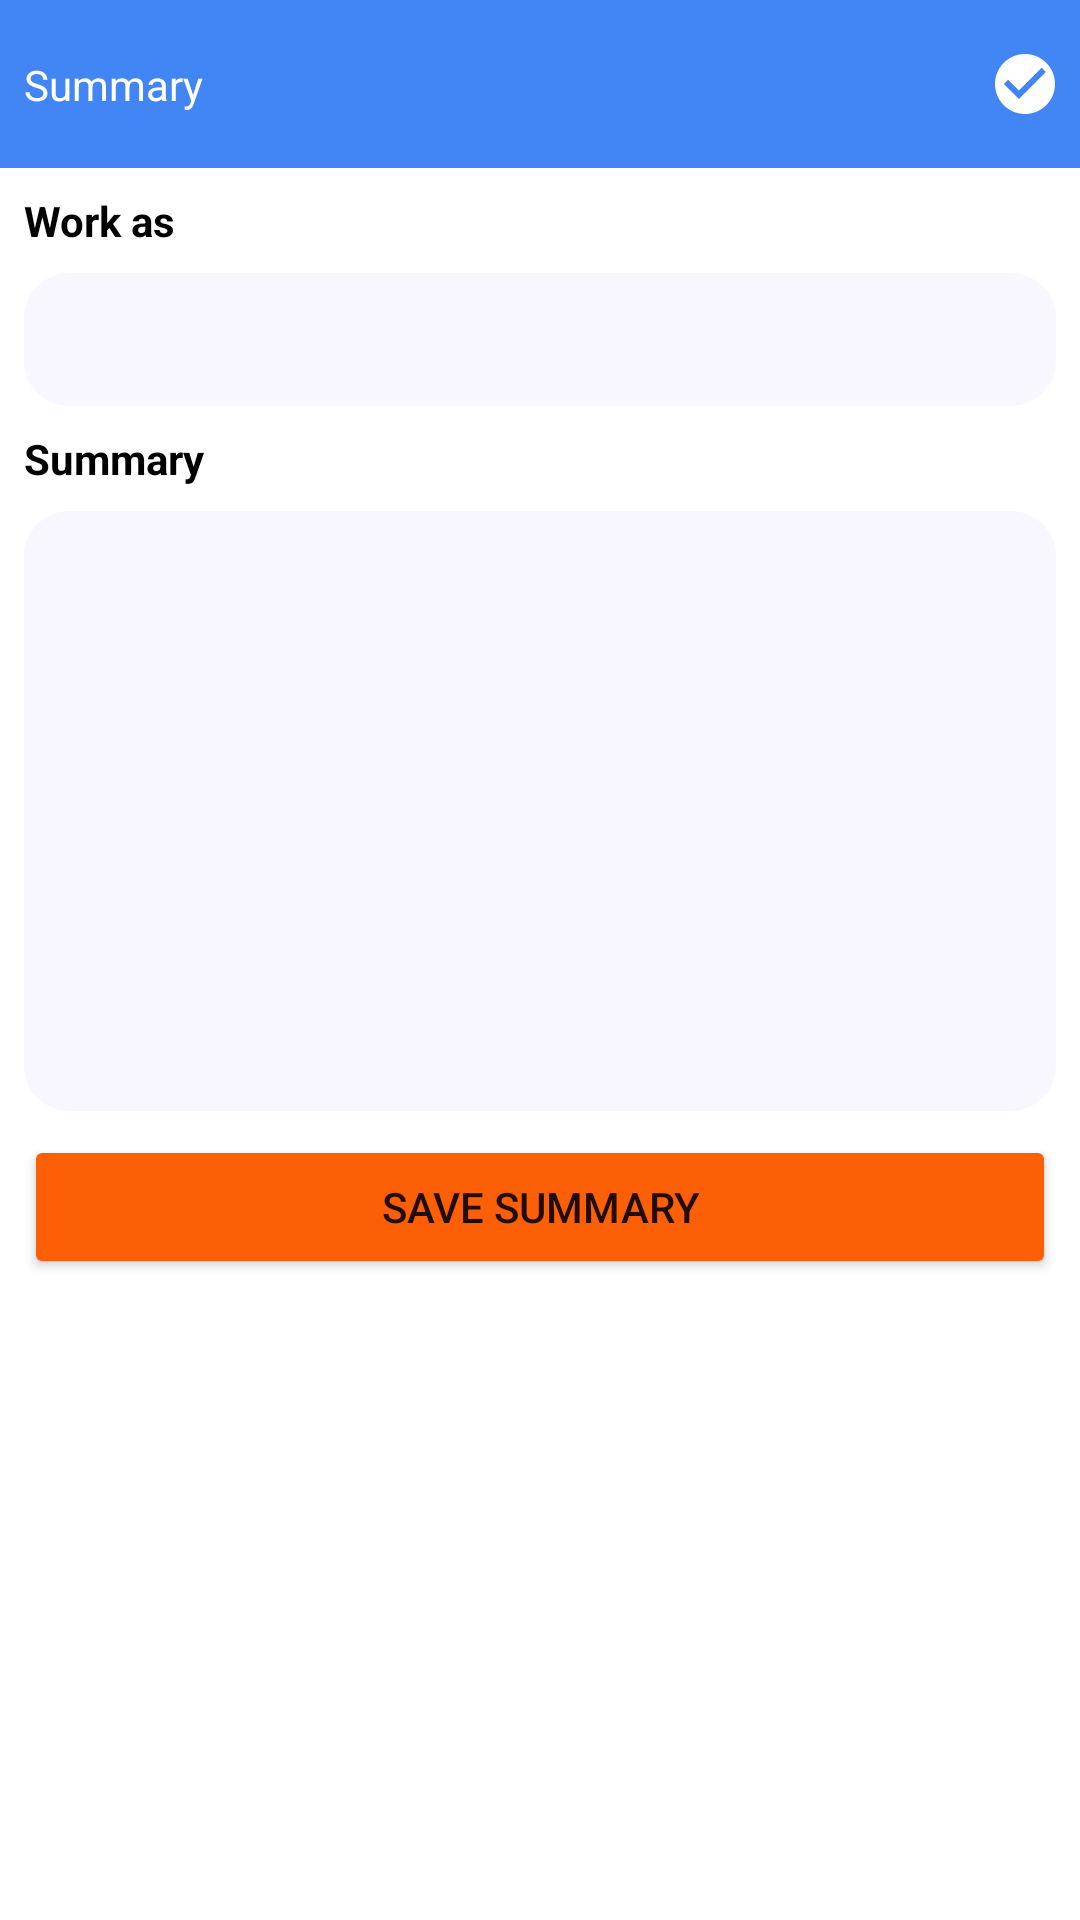

Named icons in this screenshot (1080x1920) and their bounding boxes, rect(x1, y1, x2, y2):
check: rect(995, 54, 1055, 114)
